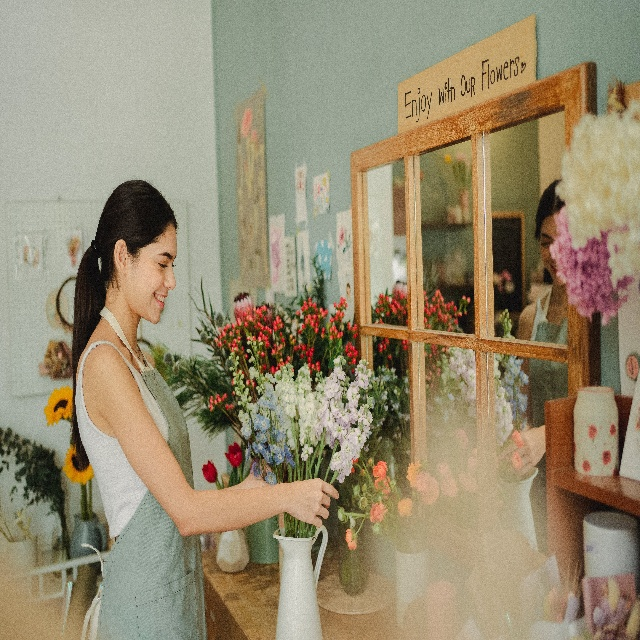Sin_guantes: (283, 477, 340, 529), (502, 426, 545, 475), (248, 459, 271, 487)
